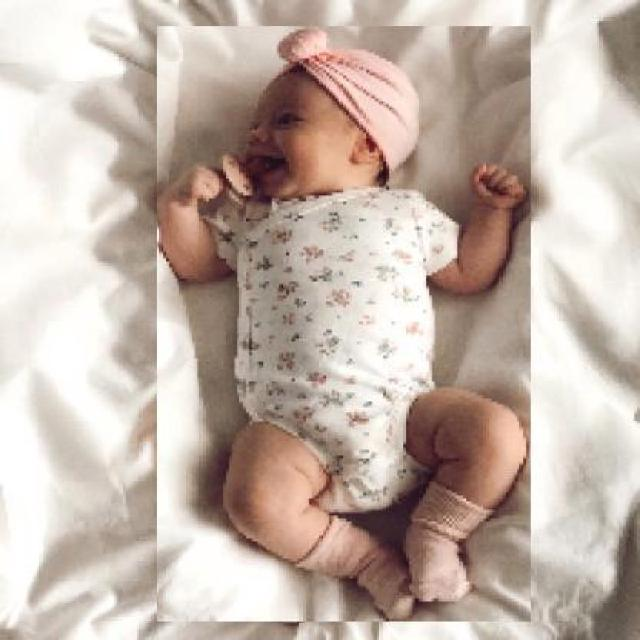child: (155, 27, 531, 624)
